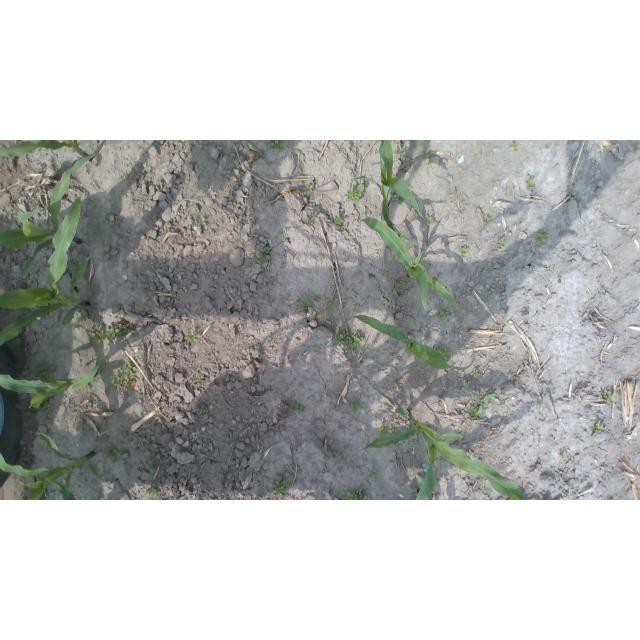Maize: (357, 406, 527, 500), (1, 196, 90, 348), (0, 153, 98, 279), (359, 218, 458, 313), (350, 141, 427, 246), (349, 314, 476, 372), (1, 432, 102, 500), (0, 354, 102, 410), (1, 141, 92, 162)
Weeds: (90, 324, 135, 344), (111, 361, 137, 392), (469, 393, 496, 420), (334, 331, 364, 349), (344, 184, 365, 205), (105, 441, 124, 464), (32, 360, 54, 379), (342, 489, 371, 500), (532, 229, 550, 246), (274, 477, 290, 495), (419, 151, 438, 166), (601, 389, 618, 404), (333, 214, 347, 232), (435, 305, 449, 320), (590, 420, 605, 434), (437, 346, 451, 361), (184, 331, 200, 344), (141, 437, 158, 449), (146, 483, 159, 498), (379, 424, 394, 437), (268, 141, 285, 152), (524, 174, 535, 191), (39, 396, 52, 410), (297, 297, 310, 311), (347, 400, 361, 412), (324, 298, 336, 311), (393, 282, 407, 293), (305, 211, 315, 226), (66, 260, 78, 271), (508, 141, 518, 153), (147, 461, 156, 474), (199, 404, 210, 414), (306, 184, 315, 196), (198, 214, 207, 226), (76, 316, 88, 325), (424, 214, 434, 224), (394, 145, 404, 155), (459, 246, 468, 257), (370, 470, 381, 479), (258, 252, 266, 264), (497, 236, 505, 248), (475, 480, 485, 489), (559, 451, 568, 461), (395, 196, 405, 204), (263, 246, 273, 254), (470, 370, 480, 378), (295, 406, 304, 414), (197, 376, 204, 386), (32, 199, 39, 209), (486, 216, 493, 224), (566, 185, 574, 192), (279, 230, 287, 235), (41, 211, 47, 217), (545, 143, 551, 149)
